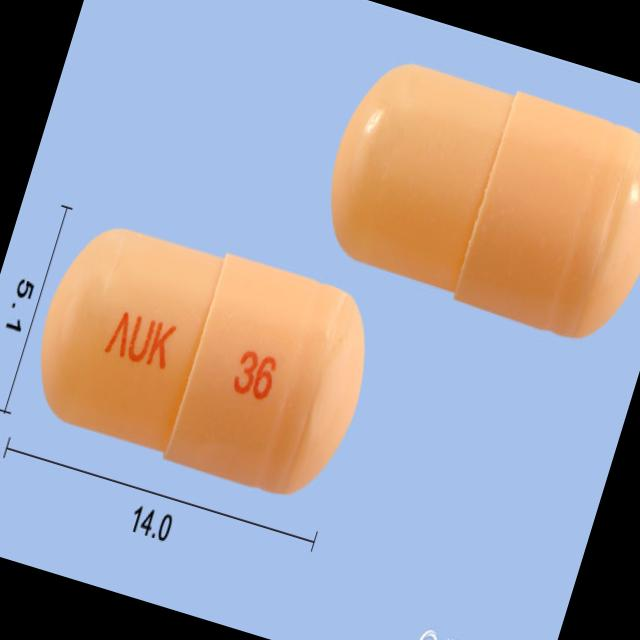Ausfixime Cap: (11, 202, 392, 514)
